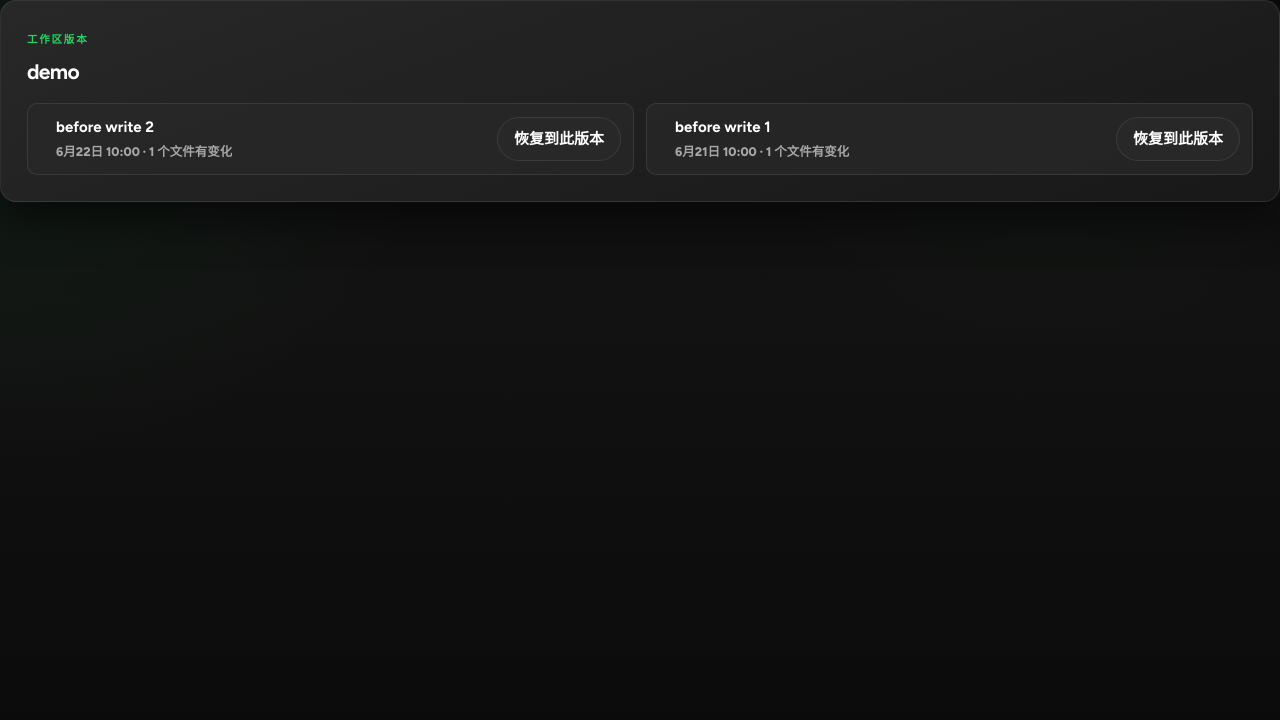
Test: WorkspaceGitView › 回滚目标冲突使用普通语言并要求重新发起
The width and height of the screenshot is (1280, 720).
Expected: the text "before write 2" is shown, [56,116,154,139]
Click the 1st button "恢复到此版本".
click(559, 139)  # box [497,117,621,161]
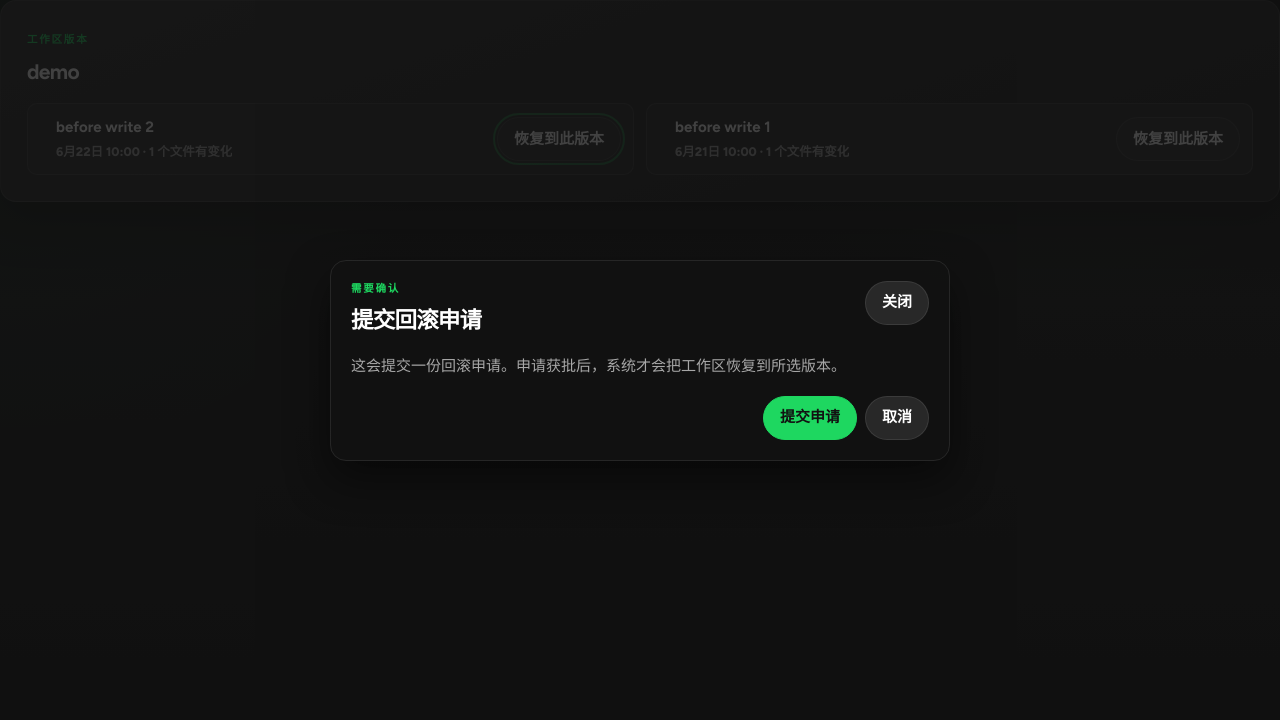
Click the button "提交申请".
click(810, 418)  # box [763,396,857,440]
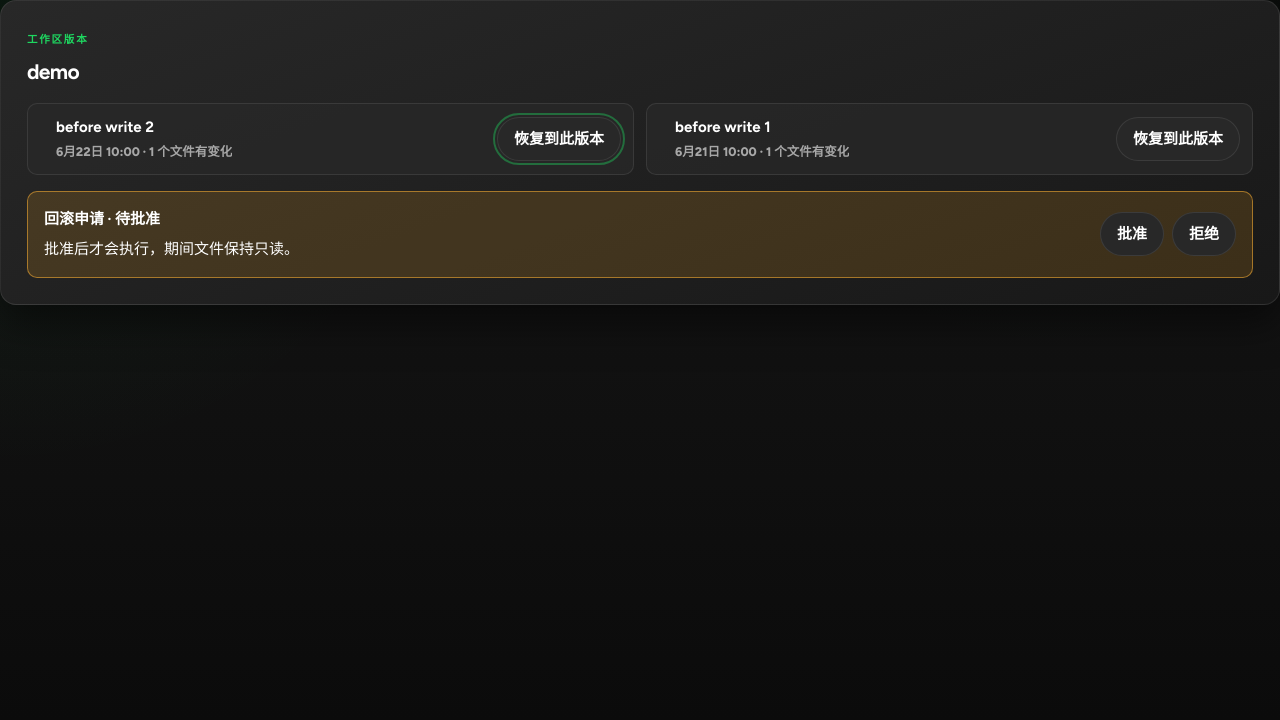
Click the button "批准".
click(1132, 234)  # box [1100,212,1164,256]
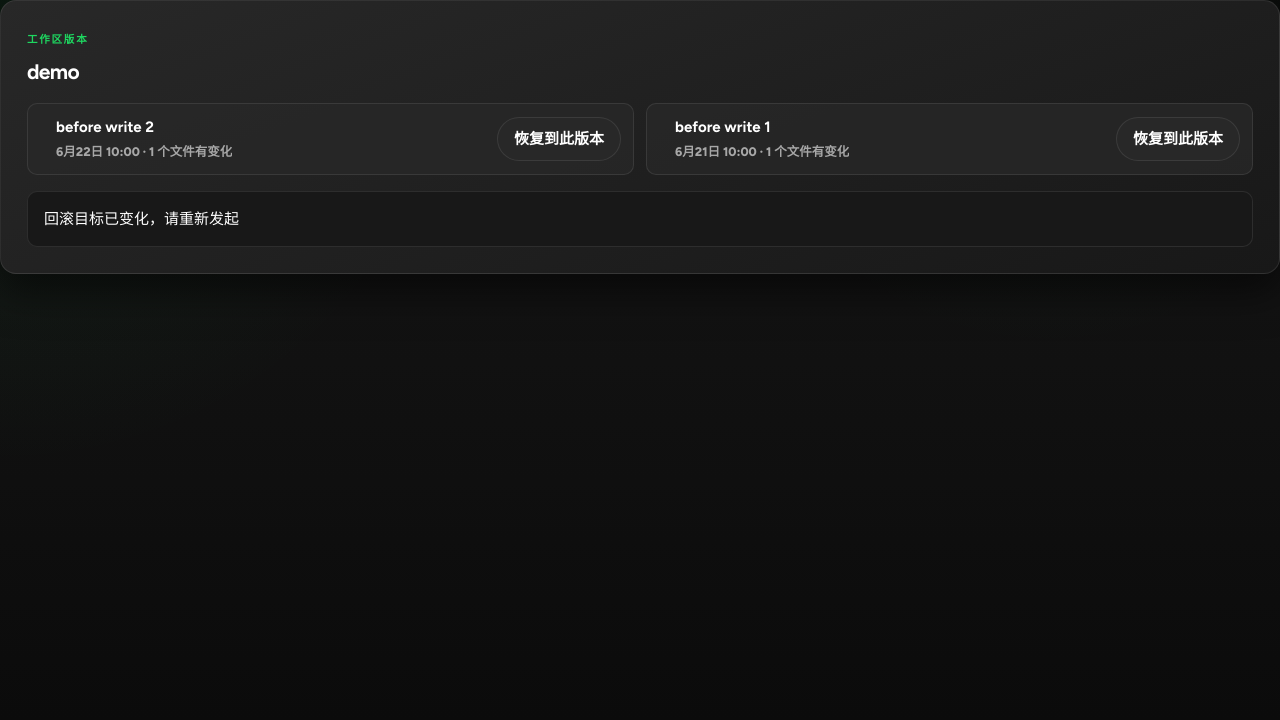
Expected: the text "回滚目标已变化，请重新发起" is shown, [44,208,239,230]
